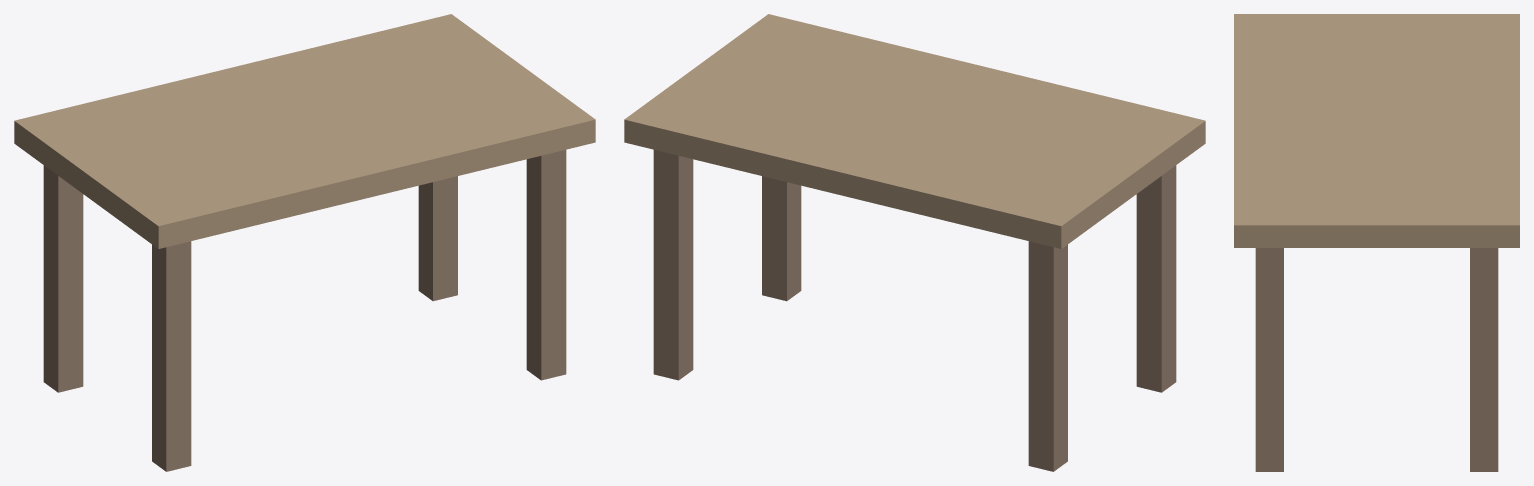
The model's file is reading-table.gltf.
3 views of the same model, side by side, from view 1: azimuth 30°, elevation 25°; view 2: azimuth 150°, elevation 25°; view 3: azimuth 270°, elevation 25° (orthographic).
Visible parts, largest first — view 1: Top, LegD, LegC, LegA, LegB; view 2: Top, LegB, LegA, LegC, LegD; view 3: Top, LegB, LegD.
Part boxes in pixels (<box>): Top: <box>14,14,595,248</box>; LegD: <box>526,150,566,380</box>; LegC: <box>152,241,191,471</box>; LegA: <box>43,165,83,392</box>; LegB: <box>418,176,457,301</box>; Top: <box>624,14,1205,248</box>; LegB: <box>653,150,693,380</box>; LegA: <box>1028,241,1067,471</box>; LegC: <box>1136,165,1176,392</box>; LegD: <box>762,176,801,301</box>; Top: <box>1234,14,1519,247</box>; LegB: <box>1470,248,1498,471</box>; LegD: <box>1255,248,1283,471</box>.
Bounding box in the file's own units: 1.4 × 0.79 × 0.8.
